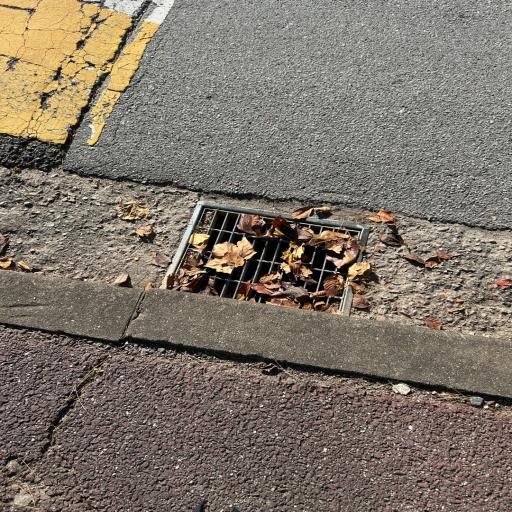debris: (235, 267, 353, 313), (280, 225, 359, 278), (173, 214, 211, 287), (207, 239, 254, 272), (240, 215, 283, 237), (206, 280, 214, 292)
drain: (171, 208, 363, 314)
